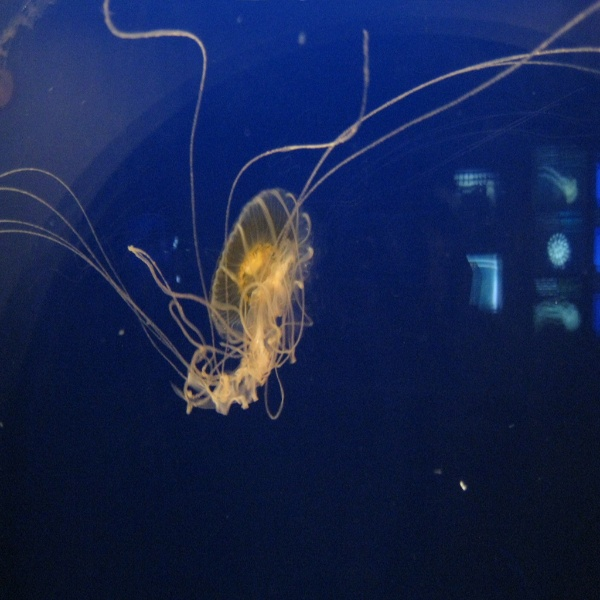Jellyfish: (40, 33, 562, 470)
